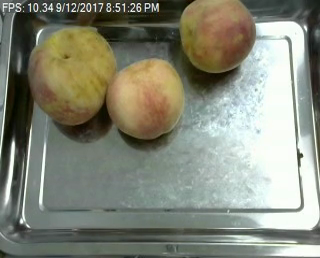Peach: (27, 25, 114, 124), (107, 57, 185, 139), (178, 0, 256, 73)
